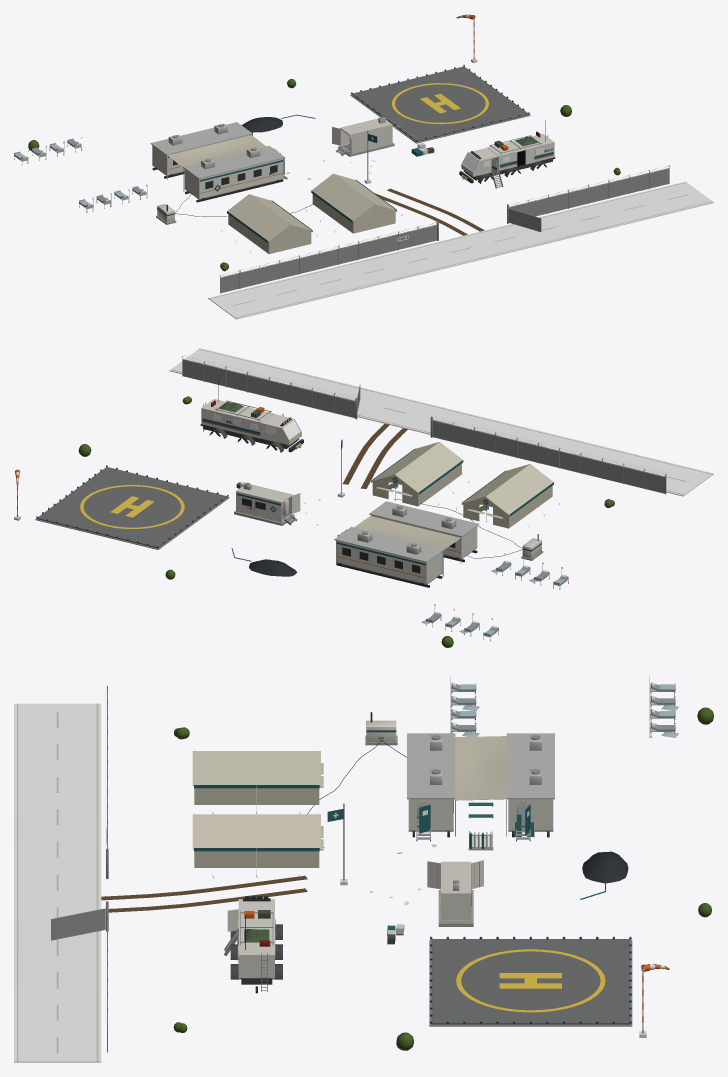
File: field-clinic.glb
3 views of the same model, one above another, from view 1: azimuth 30°, elevation 25°; view 2: azimuth 150°, elevation 25°; view 3: azimuth 270°, elevation 25° (orthographic). The views are drawn at different scales.
Parts seen in each view (by area): view 1: C-1_-1_lod0, C0_-1_lod0, C0_0_lod0, C-1_0_lod0; view 2: C-1_-1_lod0, C0_0_lod0, C0_-1_lod0, C-1_0_lod0; view 3: C-1_-1_lod0, C0_0_lod0, C0_-1_lod0, C-1_0_lod0.
Part boxes in pixels (x1,y1,x2,y2): C-1_-1_lod0: [156, 173, 474, 319]; C0_-1_lod0: [364, 105, 713, 260]; C0_0_lod0: [167, 14, 530, 235]; C-1_0_lod0: [14, 122, 324, 212]; C-1_-1_lod0: [363, 411, 713, 560]; C0_0_lod0: [14, 424, 460, 579]; C0_-1_lod0: [78, 348, 456, 503]; C-1_0_lod0: [316, 501, 568, 647]; C-1_-1_lod0: [14, 685, 402, 882]; C0_0_lod0: [101, 736, 711, 1037]; C0_-1_lod0: [14, 803, 413, 1062]; C-1_0_lod0: [381, 676, 713, 850].
Size of what is drawn, in the model's own units: 69.06 by 7.32 by 56.21.
